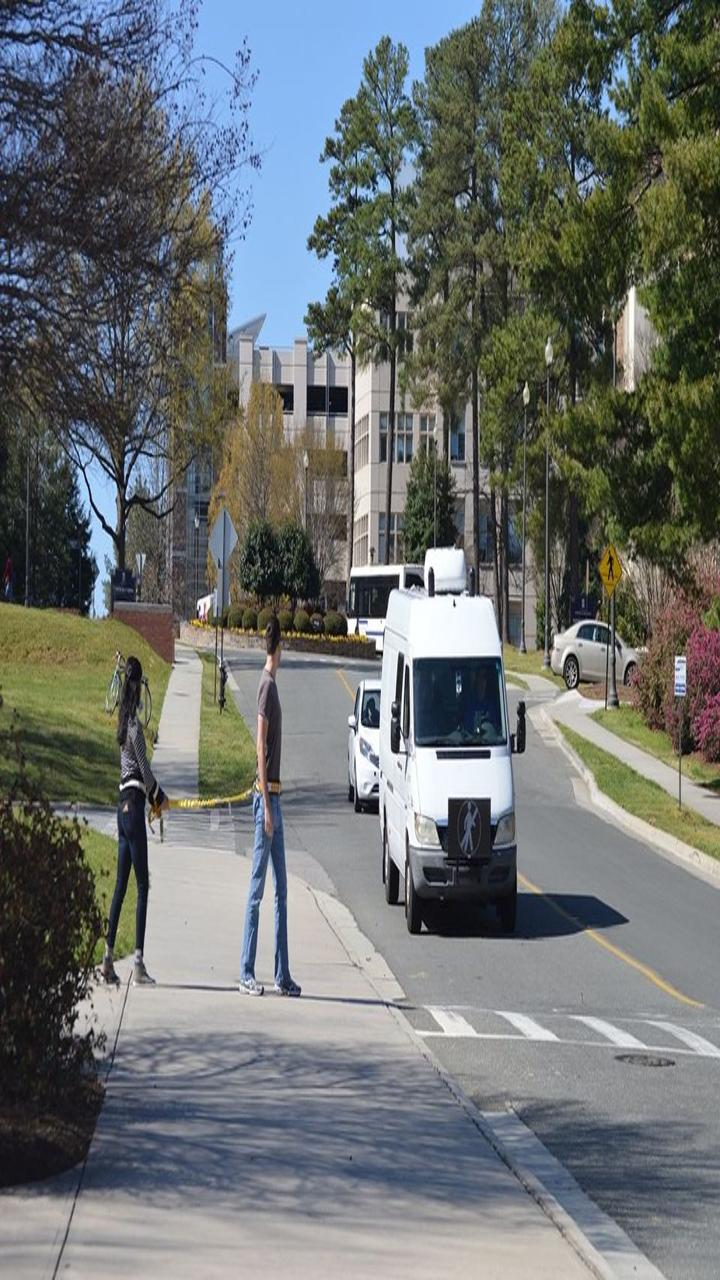Traffic sign: (587, 536, 631, 591)
pedestrian: (224, 621, 306, 999), (90, 649, 170, 992)
vehicle: (383, 583, 527, 940), (542, 600, 628, 707)
